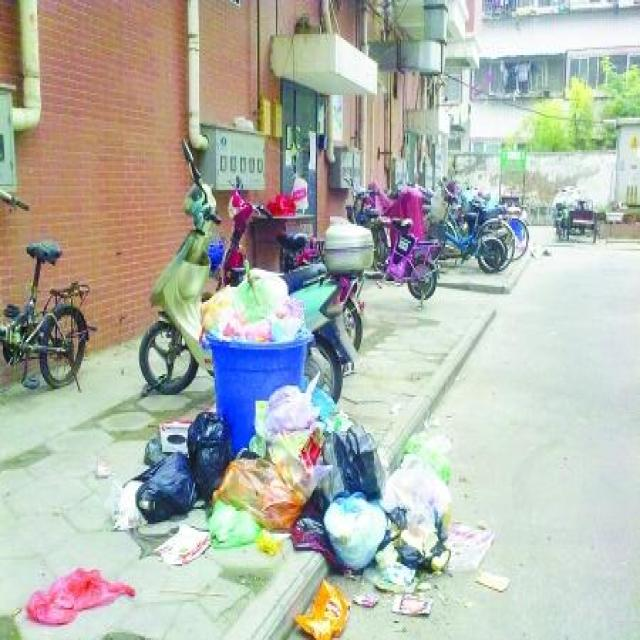garbage: (26, 380, 506, 638)
overflow: (198, 264, 313, 450)
